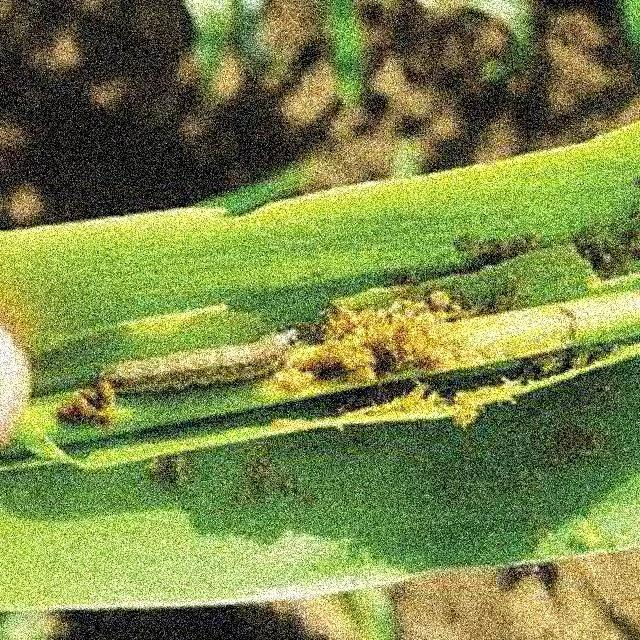worm: (85, 327, 303, 399)
